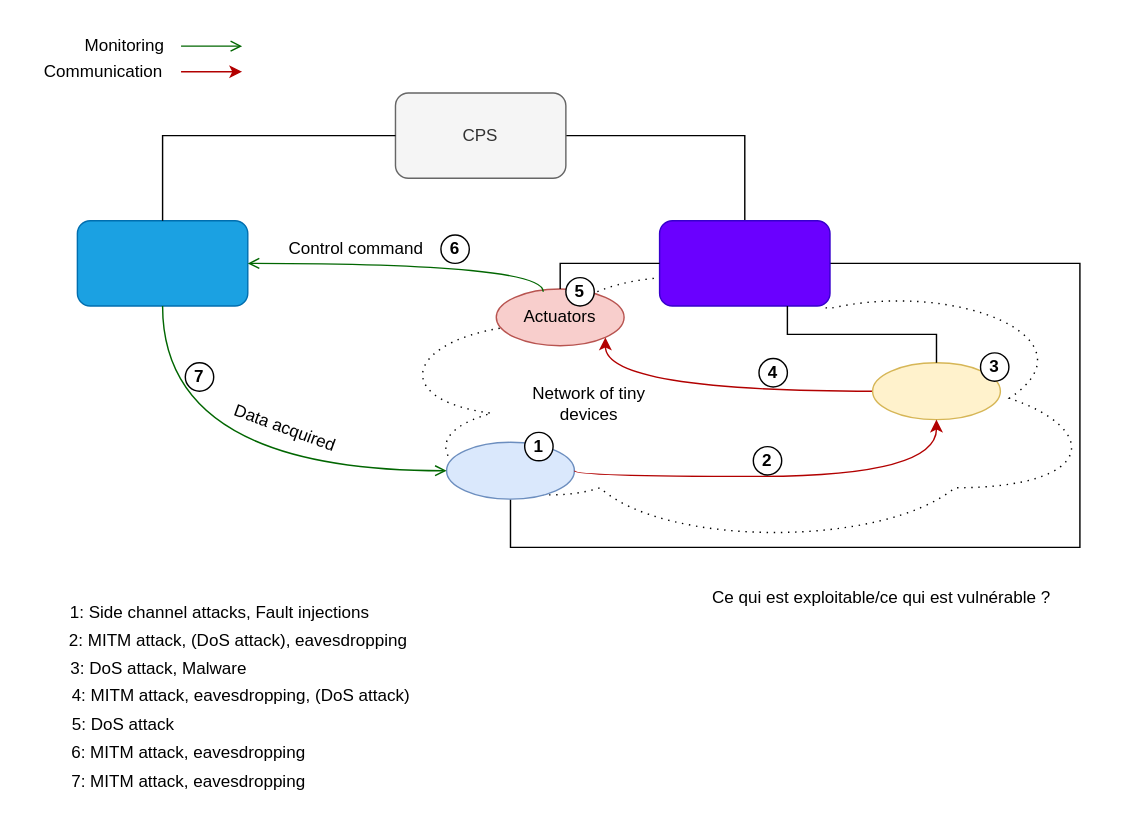
The diagram is 1125 pixels wide and 826 high, and some of its shapes have lost their labels. The box of each missing label's shape, as (x1, y1, x2, y2) in pixels:
Computing devices: (871, 361, 1000, 420)
Cyber system: (658, 219, 830, 306)
Physical processe(s): (76, 219, 248, 306)
Sensors: (445, 441, 574, 499)
